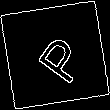P_NW: (24, 25, 86, 85)
